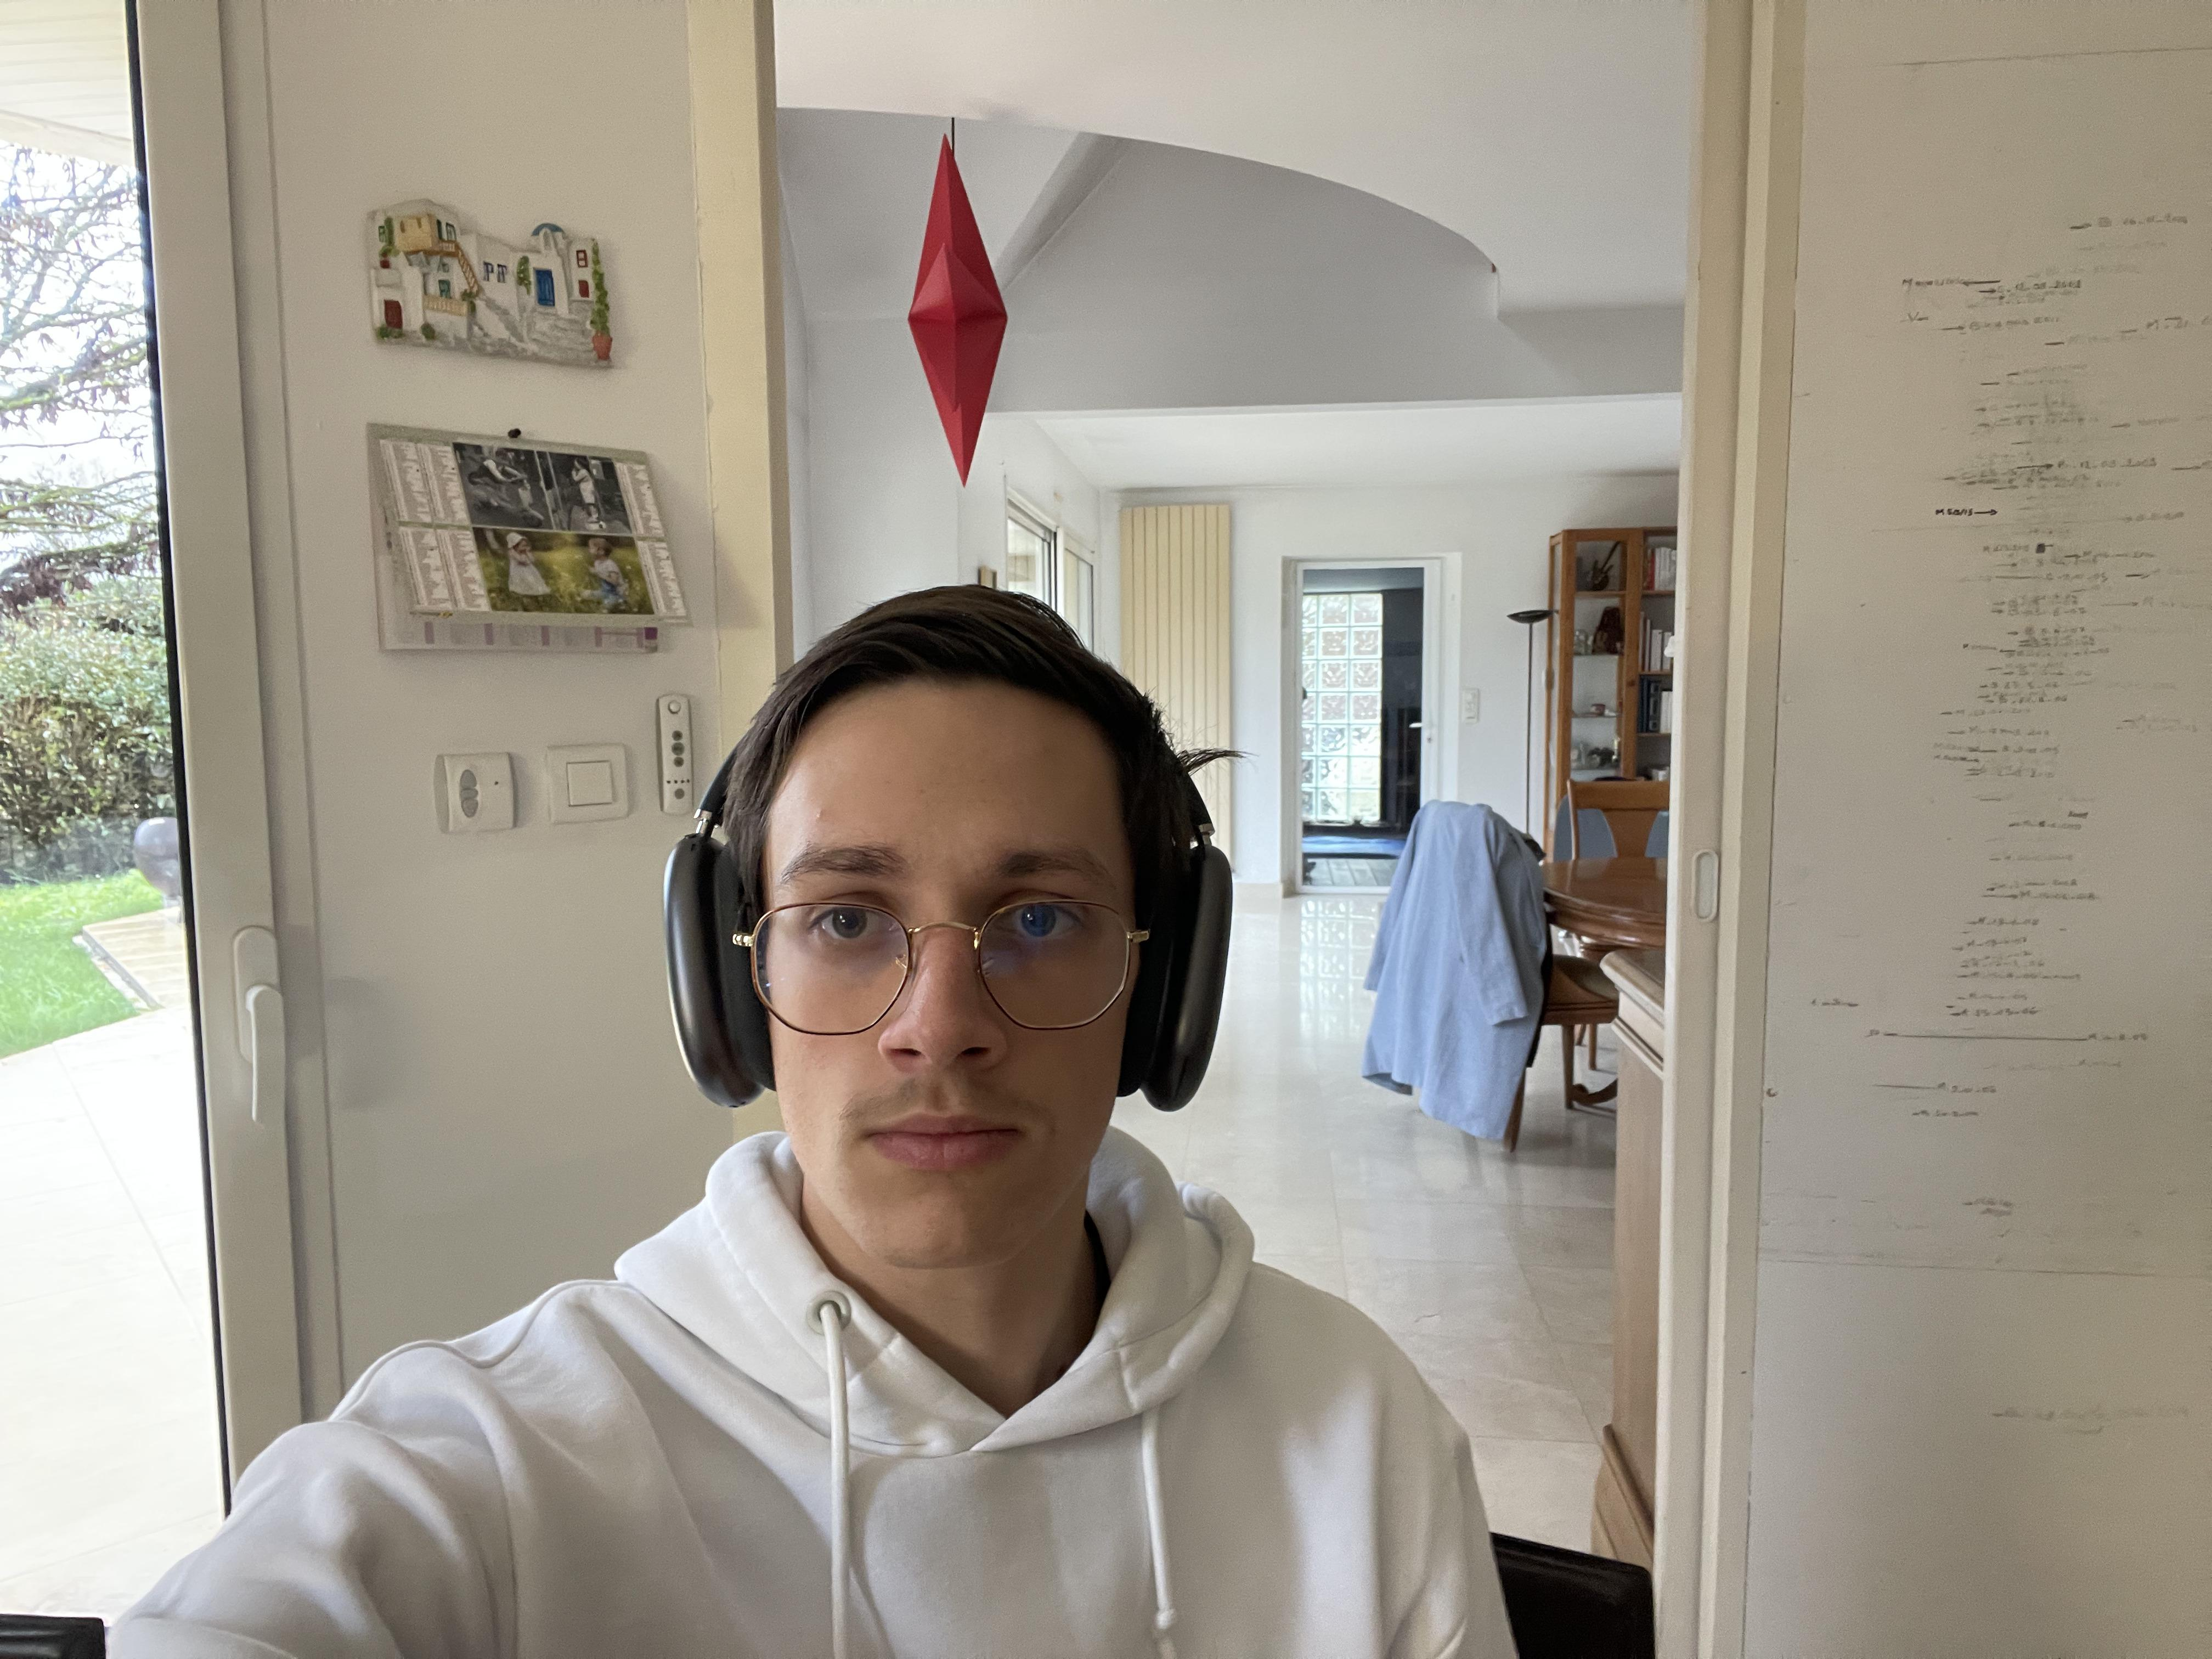headphones: (799, 587, 1235, 1114)
